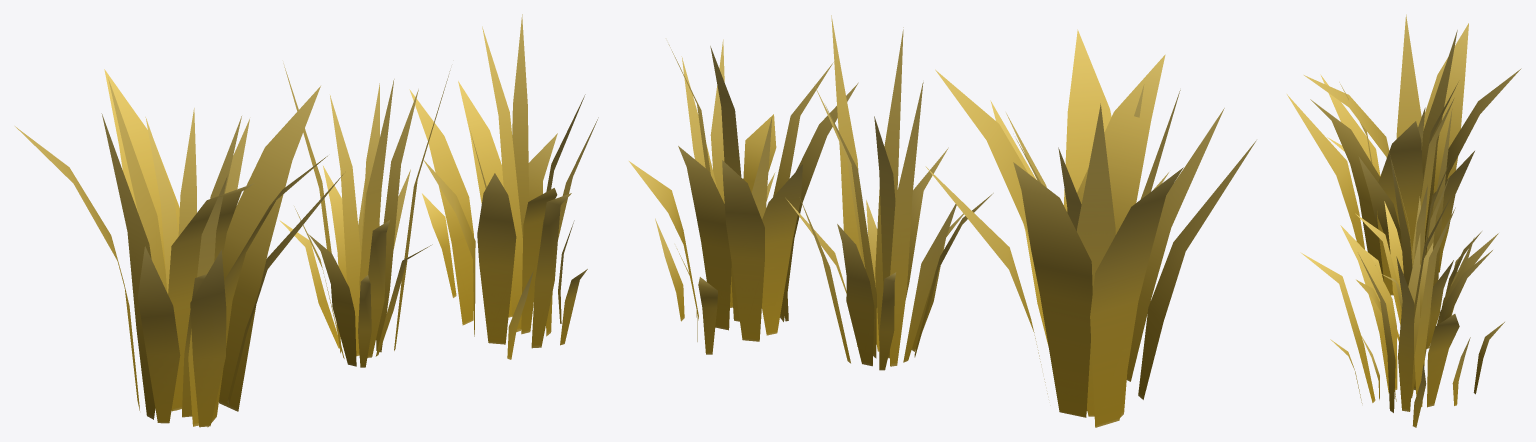
File: Grass.glb
The picture shows the model from 3 angles, left to right: view 1: azimuth 30°, elevation 25°; view 2: azimuth 150°, elevation 25°; view 3: azimuth 270°, elevation 25°; orthographic projection. The views are drawn at different scales.
Visible parts, largest first — view 1: co 1.002, co 3, co 2; view 2: co 1.002, co 3, co 2; view 3: co 1.002, co 3, co 2.
Boxes of the visible parts, <box> form: co 1.002: <box>15,69,343,427</box>; co 3: <box>409,14,598,359</box>; co 2: <box>279,63,450,367</box>; co 1.002: <box>925,29,1256,427</box>; co 3: <box>629,39,858,354</box>; co 2: <box>786,15,993,370</box>; co 1.002: <box>1287,14,1521,295</box>; co 3: <box>1300,194,1504,427</box>; co 2: <box>1355,109,1481,348</box>.
Size of the model in its own units: 0.5046 by 0.298 by 0.2597.
1 material, 1 textured.
